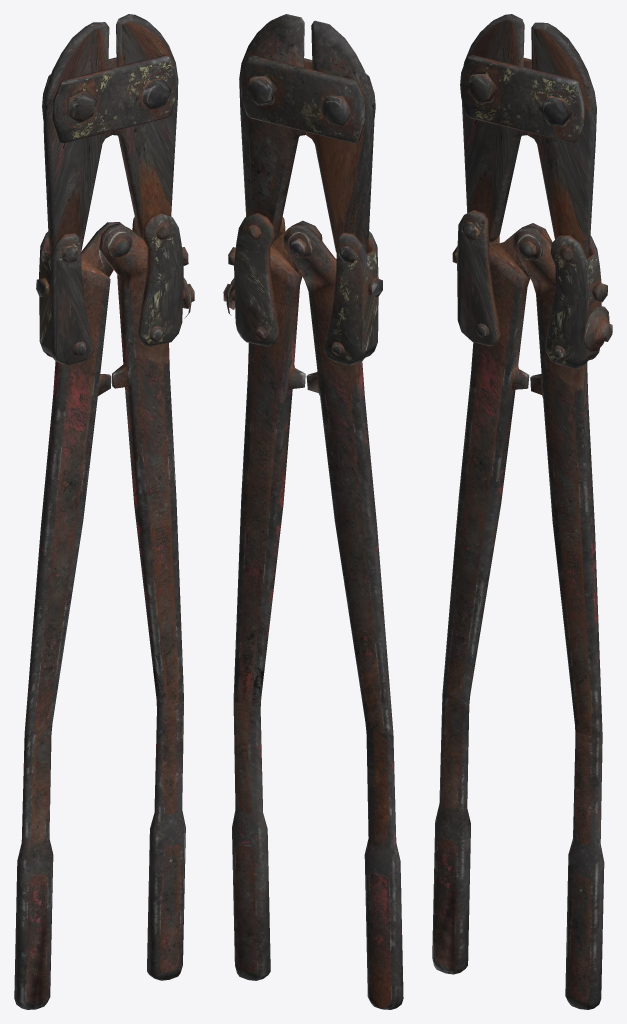
File: bolt-cutters-01.glb
3 renders of one model, left to right at view 1: azimuth 30°, elevation 25°; view 2: azimuth 150°, elevation 25°; view 3: azimuth 330°, elevation 25°, orthographic.
Visible parts, largest first — view 1: bolt_cutters_01; view 2: bolt_cutters_01; view 3: bolt_cutters_01.
Boxes of the visible parts, box(x1,y1,x2,y2) form: bolt_cutters_01: box(14, 14, 194, 1009); bolt_cutters_01: box(223, 14, 403, 1009); bolt_cutters_01: box(432, 14, 612, 1009).
Size of the model in its own units: 0.151 by 0.8026 by 0.0361.
1 material, 1 textured.
